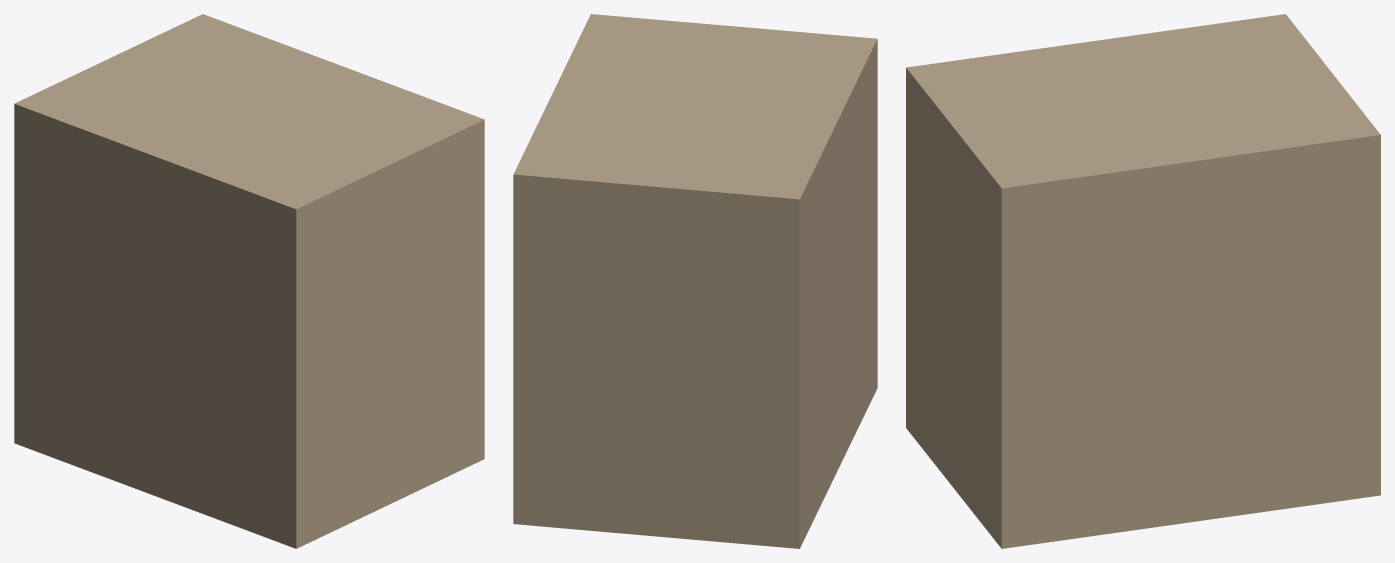
The model's file is bld_107625292.dae.
3 views of the same model, side by side, from view 1: azimuth 30°, elevation 25°; view 2: azimuth 150°, elevation 25°; view 3: azimuth 270°, elevation 25° (orthographic). The views are drawn at different scales.
Parts seen in each view (by area): view 1: bld_107625292; view 2: bld_107625292; view 3: bld_107625292.
Part boxes in pixels (x1=…): bld_107625292: x1=14, y1=14, x2=484, y2=548; bld_107625292: x1=513, y1=14, x2=877, y2=548; bld_107625292: x1=906, y1=14, x2=1380, y2=548.
Size of the model in its own units: 8.3 by 9.55 by 8.
